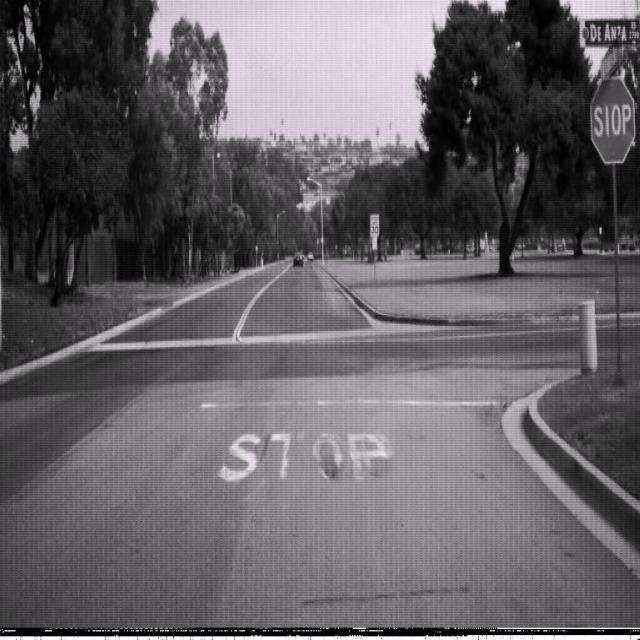stop_sign: (589, 75, 635, 164)
